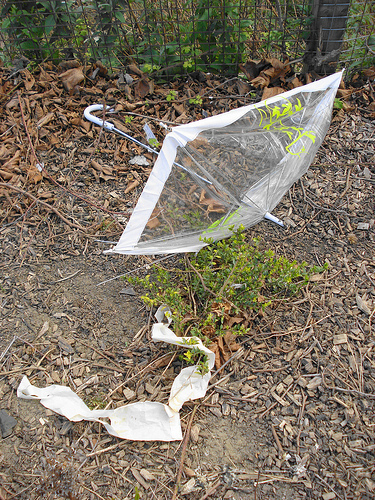litter: (87, 69, 346, 254), (15, 321, 209, 439)
